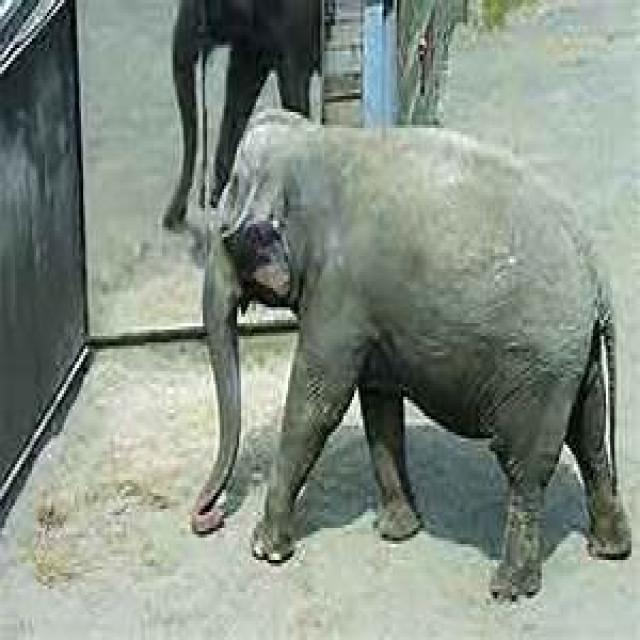elephant: (194, 106, 631, 605)
